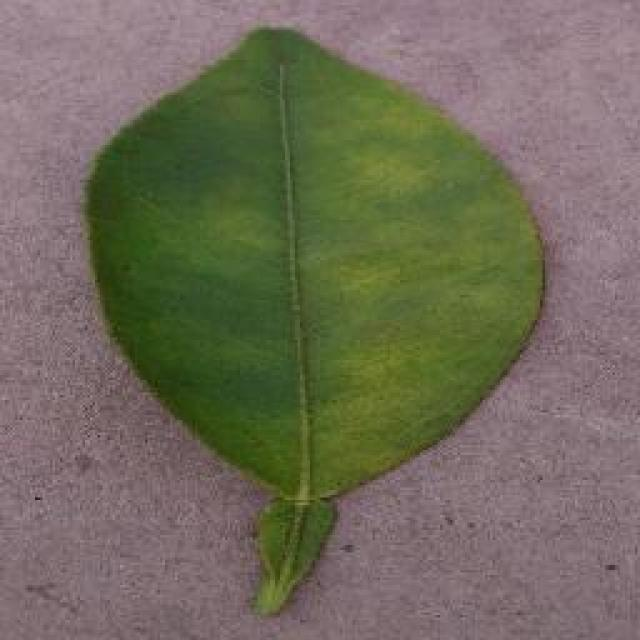Orange_Haunglongbing_Citrus_greening: (92, 75, 512, 417)
